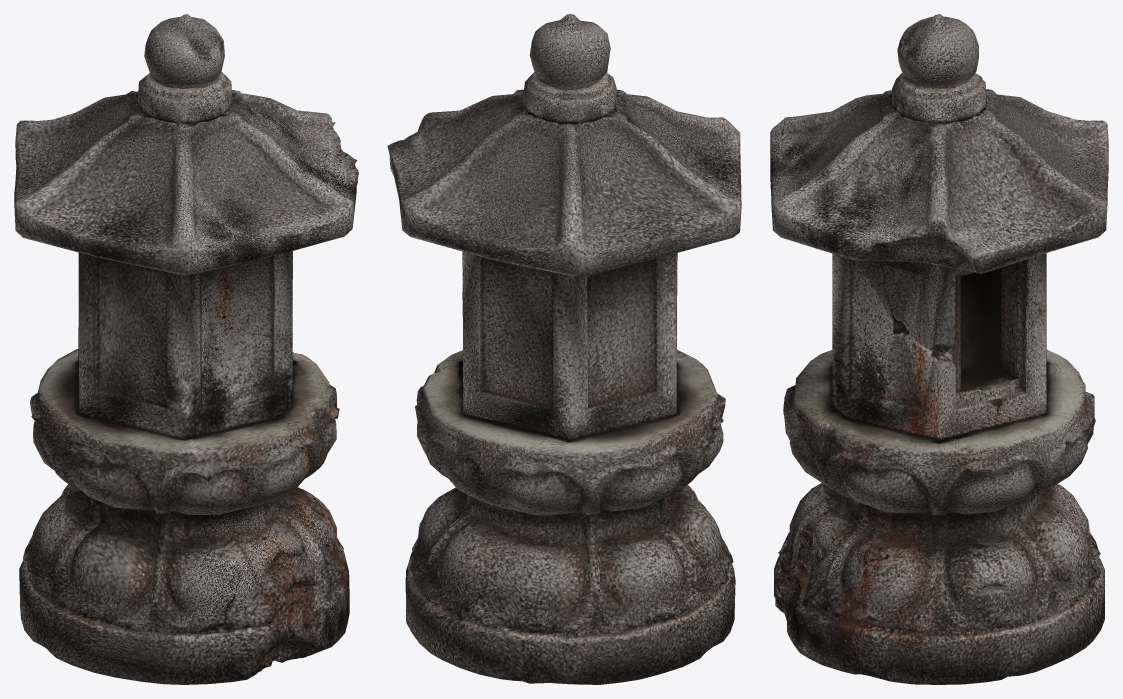
Rendered from tripo_convert_4805c76d-9ddd-44fe-8902-d12fdd8dcf78.fbx.
3 views of the same model, side by side, from view 1: azimuth 30°, elevation 25°; view 2: azimuth 150°, elevation 25°; view 3: azimuth 270°, elevation 25° (orthographic).
Parts seen in each view (by area): view 1: tripo_node_4805c76d; view 2: tripo_node_4805c76d; view 3: tripo_node_4805c76d.
Part boxes in pixels (x1,y1,x2,y2): tripo_node_4805c76d: (14, 14, 358, 684); tripo_node_4805c76d: (387, 14, 741, 684); tripo_node_4805c76d: (770, 14, 1108, 684).
Bounding box in the file's own units: 0.584 × 0.998 × 0.5098.
1 material, 1 textured.
